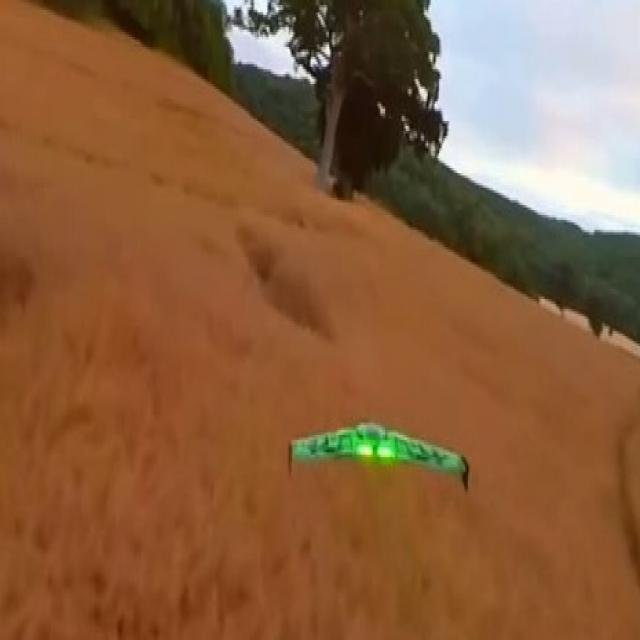iha: (282, 420, 472, 477)
